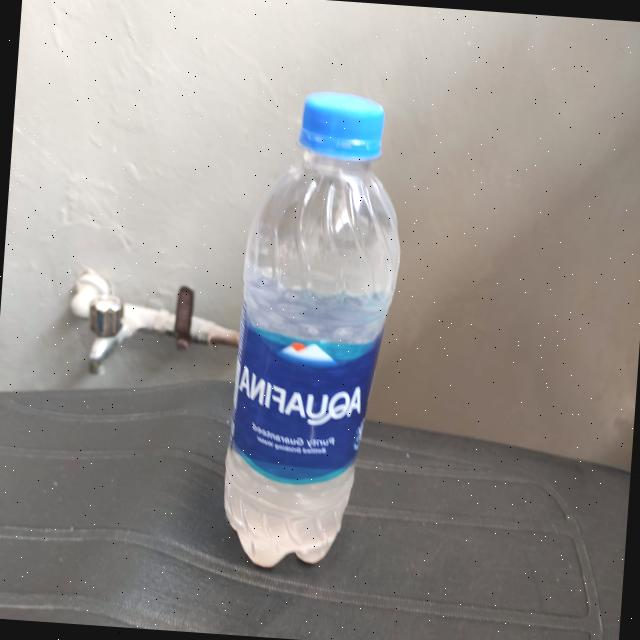bottle: (208, 80, 421, 578)
cap: (291, 88, 391, 161)
label: (220, 317, 383, 481)
